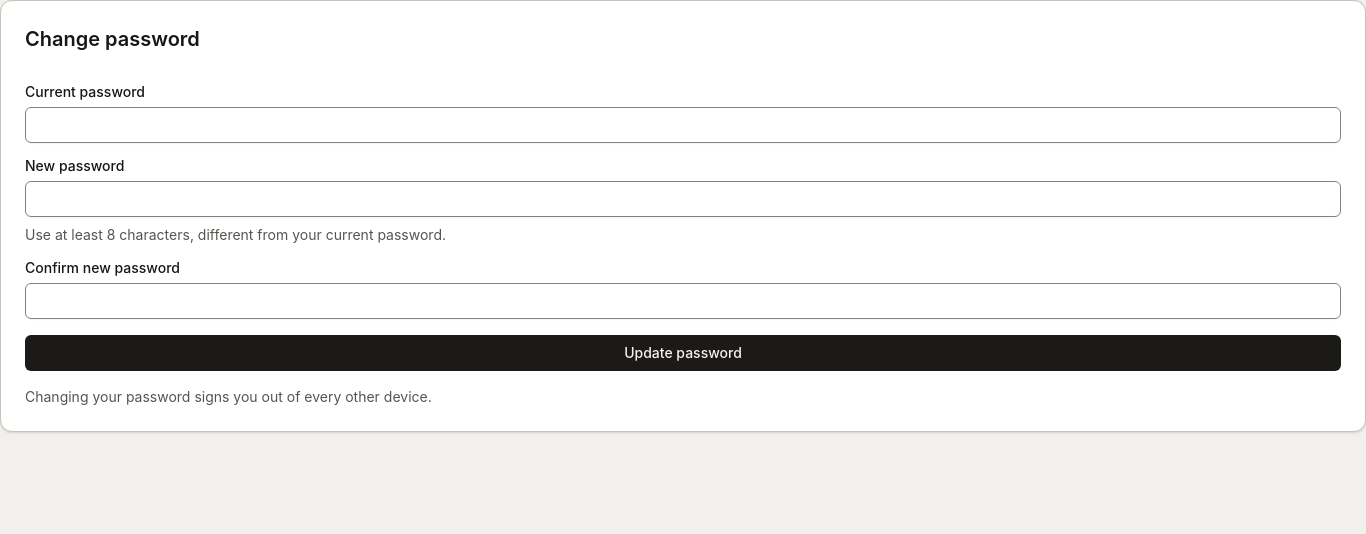
it: ChangePassword › blocks submit and shows inline errors on empty fields
Click the button "Update password" at coordinates (683, 353), box [25, 335, 1341, 371]
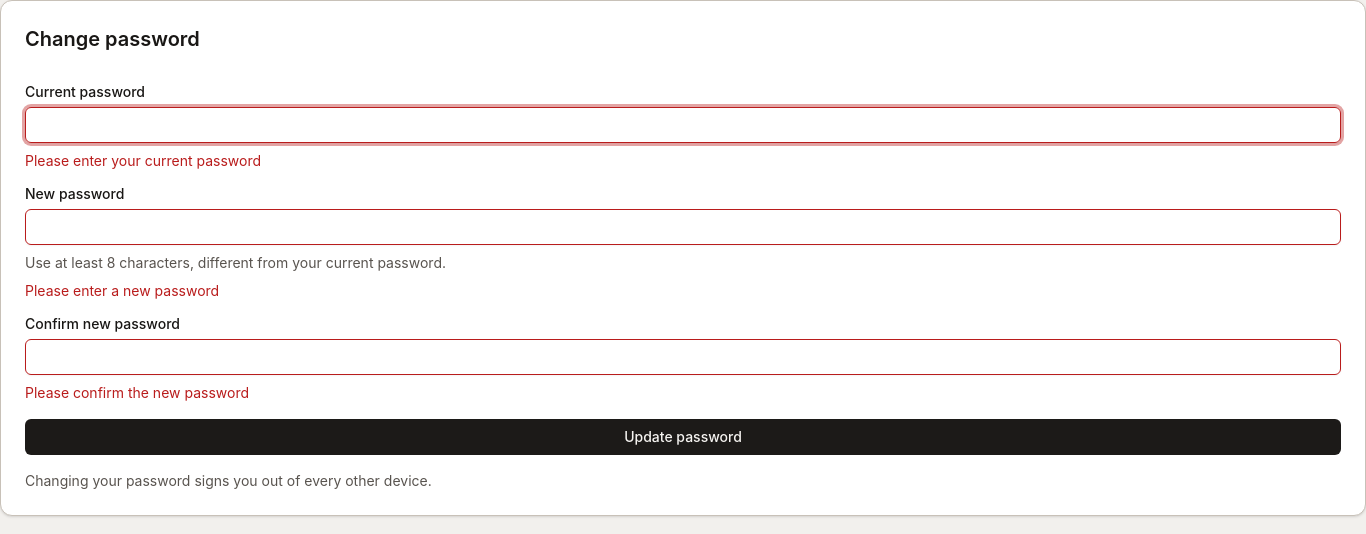
expect the text "Please enter your current password" is shown: met, box [25, 152, 261, 169]
expect the text "Please enter a new password" is shown: met, box [25, 282, 219, 299]
expect the text "Please confirm the new password" is shown: met, box [25, 384, 249, 401]
